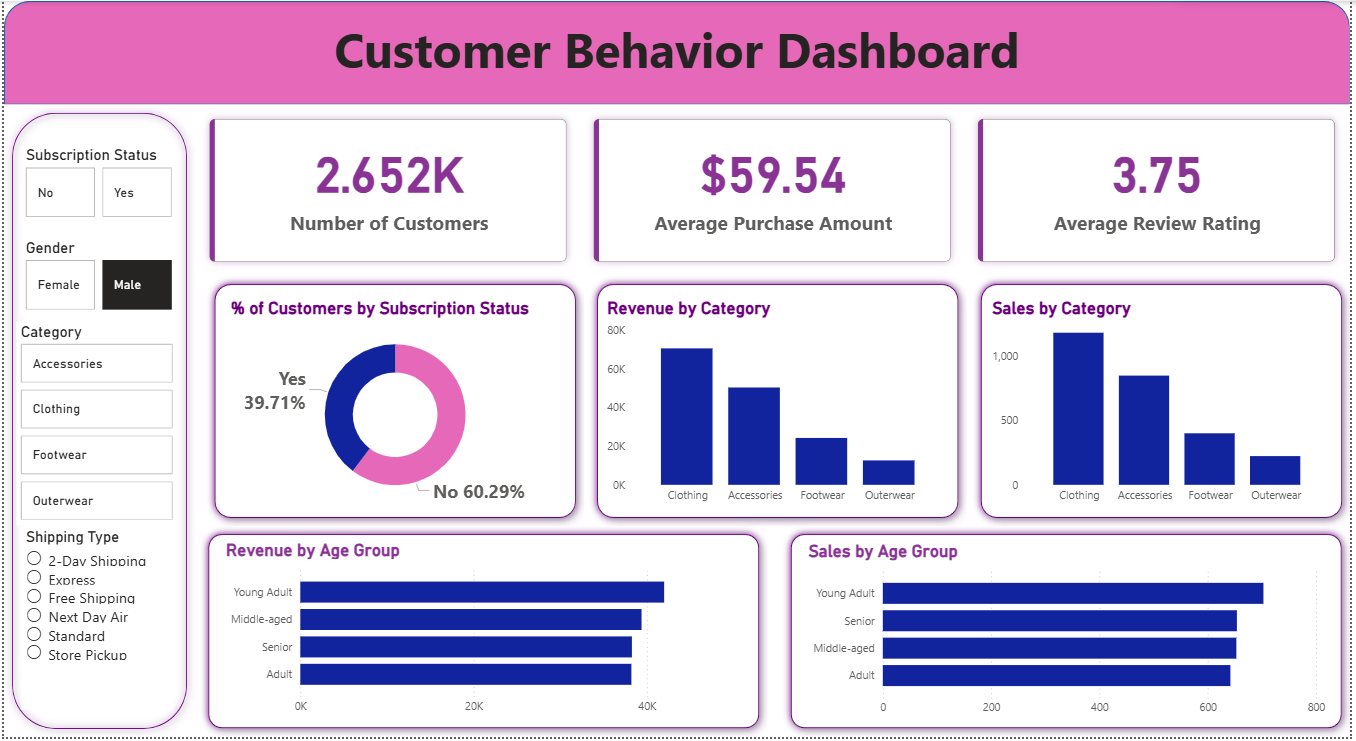

The page's visual inventory and layout, read from the dashboard file:
{"tool":"powerbi","page":{"name":"Page 1","canvas":[1500,820],"ordinal":0},"visuals":[{"type":"cardVisual","fields":{"Data":["public customer.Number of Customers","public customer.Average Purchase Amount","public customer.Average Review Rating"]},"box":[212.9,115.3,1286.5,191.6],"z":2000},{"type":"shape","box":[218.3,585.6,631.7,234.2],"z":2500,"group":"g1"},{"type":"shape","box":[0,0,1499.4,115.3],"z":3000},{"type":"textbox","box":[0,12.4,1499.4,102.9],"z":4000},{"type":"shape","box":[225.4,307,420.5,278.6],"z":5000},{"type":"donutChart","title":"% of Customers by Subscription Status","fields":{"Category":["public customer.subscription_status"],"Y":["CountNonNull(public customer.customer_id)"]},"box":[248.4,331.8,376.2,237.8],"z":6000},{"type":"shape","box":[1078.9,307,420.5,278.6],"z":7000},{"type":"shape","box":[652.1,307,420.5,278.6],"z":8000},{"type":"clusteredColumnChart","title":"Revenue by Category","fields":{"Y":["Sum(public customer.purchase_amount)"],"Category":["public customer.category"]},"box":[667.2,331.8,385.1,237.8],"z":9000},{"type":"clusteredColumnChart","title":"Sales by Category","fields":{"Y":["CountNonNull(public customer.customer_id)"],"Category":["public customer.category"]},"box":[1096.6,331.8,385.1,237.8],"z":10000},{"type":"shape","box":[0,115.3,212.9,704.5],"z":11000},{"type":"advancedSlicerVisual","fields":{"Values":["public customer.subscription_status"]},"box":[19.5,161.5,173.9,85.2],"z":12000},{"type":"advancedSlicerVisual","fields":{"Values":["public customer.gender"]},"box":[19.5,264.4,173.9,85.2],"z":13000},{"type":"advancedSlicerVisual","fields":{"Values":["public customer.category"]},"box":[13.6,358.4,179.9,226.2],"z":14000},{"type":"listSlicer","fields":{"Values":["public customer.shipping_type"]},"box":[19.1,585.9,169,203],"z":15000},{"type":"shape","box":[867.7,585.6,631.7,234.2],"z":16000},{"type":"clusteredBarChart","title":"Sales by Age Group","fields":{"Y":["CountNonNull(public customer.customer_id)"],"Category":["public customer.age_group"]},"box":[890.8,601.5,585.6,204.1],"z":17000},{"type":"clusteredBarChart","title":"Revenue by Age Group","fields":{"Y":["Sum(public customer.purchase_amount)"],"Category":["public customer.age_group"]},"box":[241.4,601.6,585.6,204.1],"z":17500,"group":"g1"},{"type":"group","id":"g1","title":"Group 1","box":[218.3,585.6,631.7,234.2],"z":17501}]}

Visuals, with their boxes in screenshot pixels (x1, y1, x2, y2), scaled from the page's 1500x820 canvas onto the 1356x741 screenshot:
cardVisual - public customer.Number of Customers x public customer.Average Purchase Amount: select_region(192, 104, 1355, 277)
shape: select_region(197, 529, 768, 740)
shape: select_region(0, 0, 1355, 104)
textbox: select_region(0, 11, 1355, 104)
shape: select_region(204, 277, 584, 529)
"% of Customers by Subscription Status" donutChart: select_region(225, 300, 565, 515)
shape: select_region(975, 277, 1355, 529)
shape: select_region(589, 277, 970, 529)
"Revenue by Category" clusteredColumnChart: select_region(603, 300, 951, 515)
"Sales by Category" clusteredColumnChart: select_region(991, 300, 1339, 515)
shape: select_region(0, 104, 192, 740)
advancedSlicerVisual - public customer.subscription_status: select_region(18, 146, 175, 223)
advancedSlicerVisual - public customer.gender: select_region(18, 239, 175, 316)
advancedSlicerVisual - public customer.category: select_region(12, 324, 175, 528)
listSlicer - public customer.shipping_type: select_region(17, 529, 170, 713)
shape: select_region(784, 529, 1355, 740)
"Sales by Age Group" clusteredBarChart: select_region(805, 544, 1335, 728)
"Revenue by Age Group" clusteredBarChart: select_region(218, 544, 748, 728)
"Group 1" group: select_region(197, 529, 768, 740)
